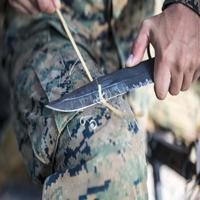knife: (41, 32, 200, 118)
